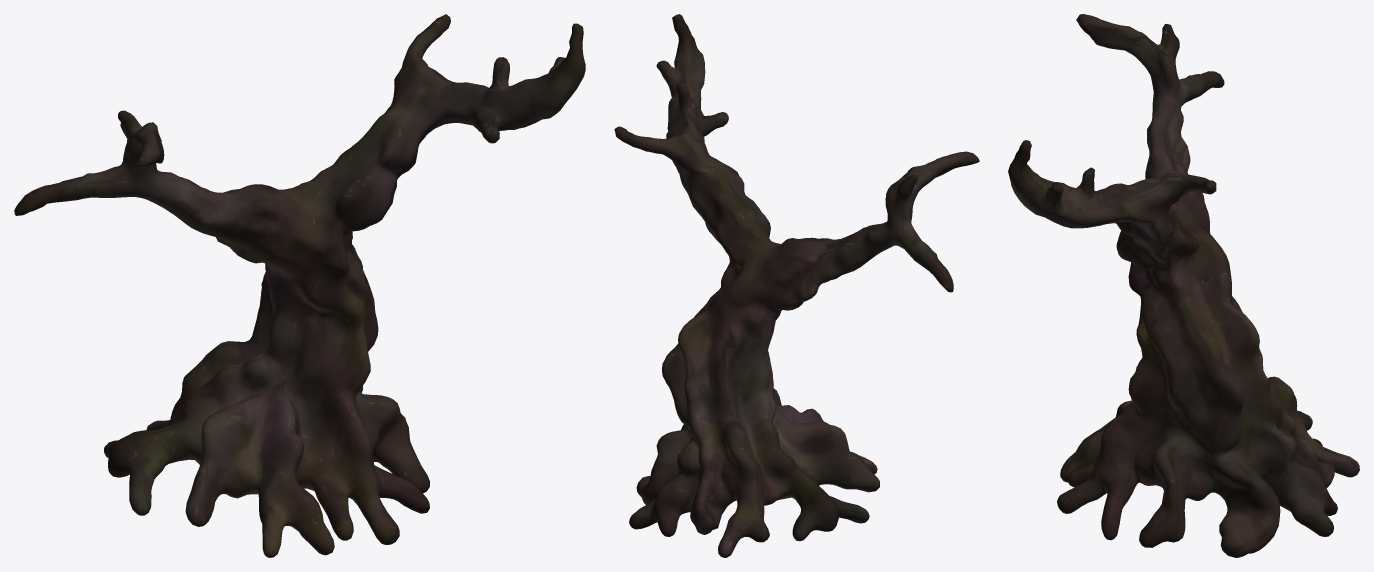
File: hexatree.fbx
3 views of the same model, side by side, from view 1: azimuth 30°, elevation 25°; view 2: azimuth 150°, elevation 25°; view 3: azimuth 270°, elevation 25° (orthographic). The views are drawn at different scales.
Parts seen in each view (by area): view 1: Cylinder.001; view 2: Cylinder.001; view 3: Cylinder.001.
Part boxes in pixels (x1,y1,x2,y2): Cylinder.001: (14, 14, 585, 557); Cylinder.001: (614, 14, 979, 557); Cylinder.001: (1008, 14, 1359, 557).
Size of the model in its own units: 234 by 244 by 172.
